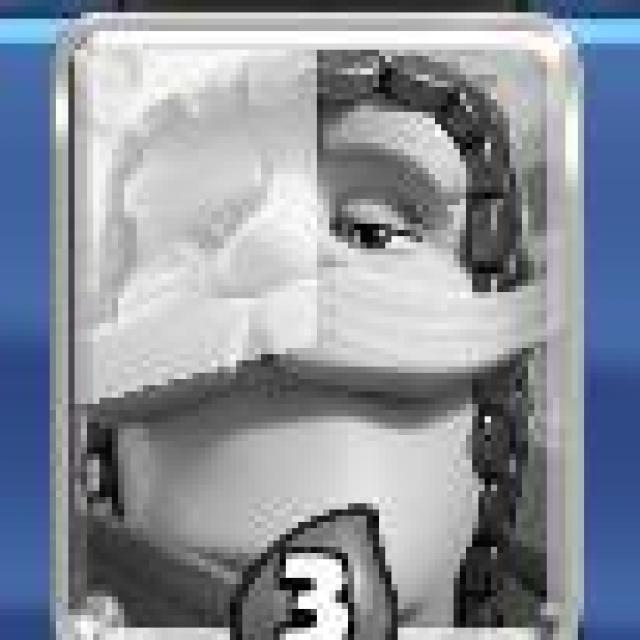Knight: (44, 5, 576, 640)
